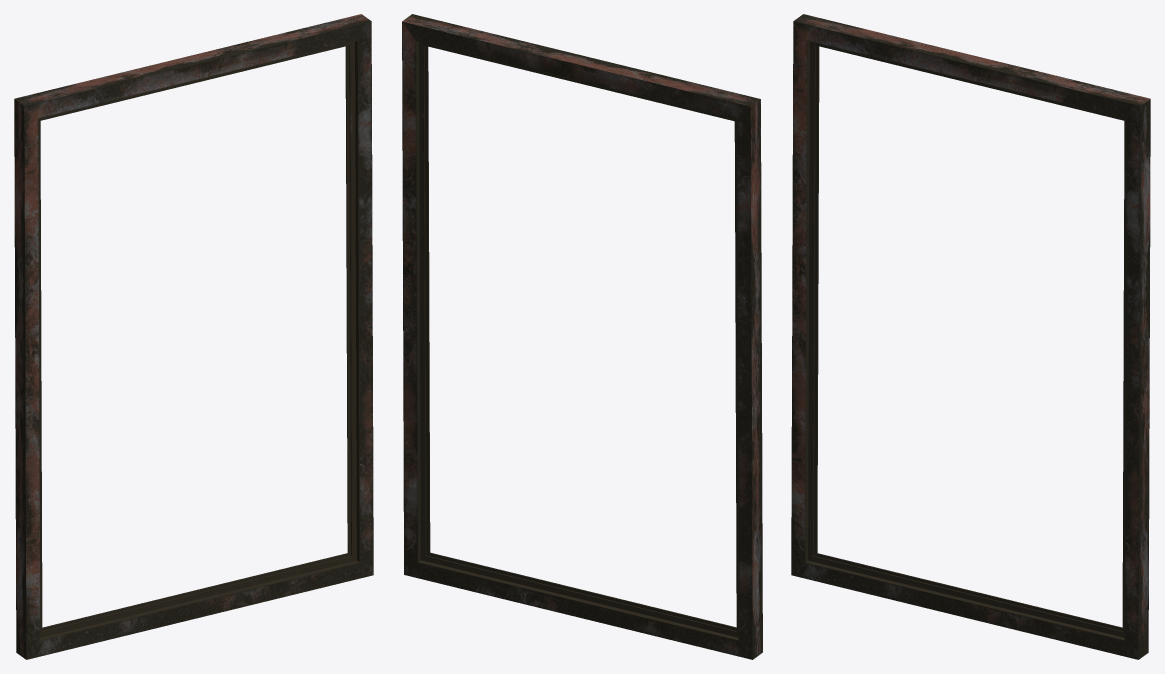
3 renders of one model, left to right at view 1: azimuth 30°, elevation 25°; view 2: azimuth 150°, elevation 25°; view 3: azimuth 330°, elevation 25°, orthographic.
Parts seen in each view (by area): view 1: 10; view 2: 10; view 3: 10.
Boxes of the visible parts, x1=… form: 10: x1=14, y1=14, x2=373, y2=659; 10: x1=402, y1=14, x2=762, y2=659; 10: x1=791, y1=14, x2=1150, y2=659.
Bounding box in the file's own units: 0.5737 × 0.8724 × 0.0348.
Materials: 1 (1 with a texture image).
